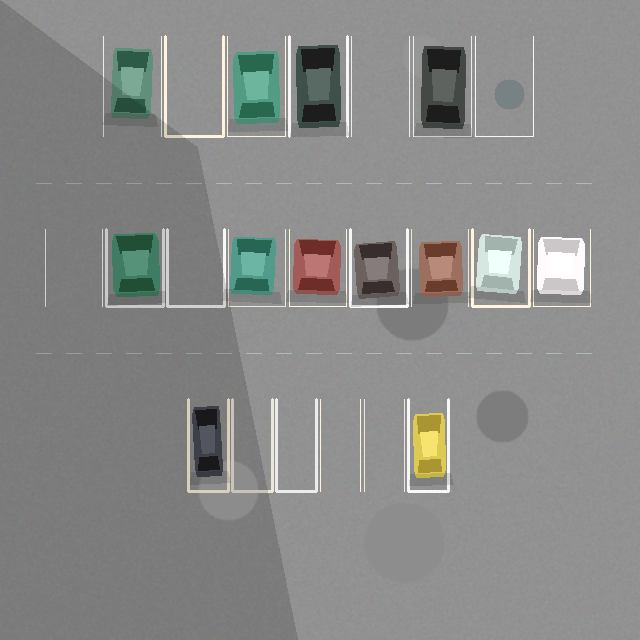space-empty: (165, 36, 223, 136), (351, 36, 409, 136), (475, 36, 533, 136), (45, 229, 102, 306), (167, 229, 224, 306), (232, 399, 272, 491), (276, 399, 316, 491), (320, 399, 360, 491), (364, 399, 404, 491)
space-occupied: (103, 36, 161, 136), (227, 36, 285, 136), (289, 36, 347, 136), (413, 36, 471, 136), (106, 229, 163, 306), (228, 229, 285, 306), (289, 229, 346, 306), (350, 229, 407, 306), (411, 229, 468, 306), (472, 229, 529, 306), (533, 229, 590, 306), (188, 399, 228, 491), (408, 399, 448, 491)
